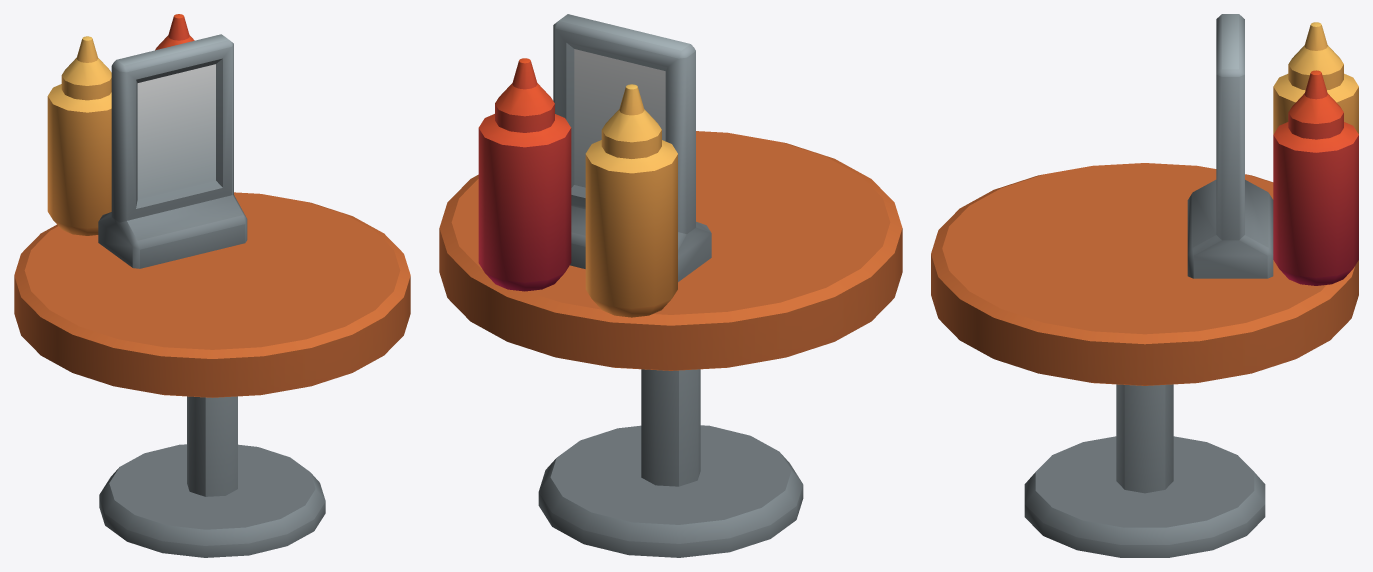
The model's file is Table Round A Small.glb.
3 views of the same model, side by side, from view 1: azimuth 30°, elevation 25°; view 2: azimuth 150°, elevation 25°; view 3: azimuth 270°, elevation 25° (orthographic). The views are drawn at different scales.
Parts seen in each view (by area): view 1: table_round_A_small_decorated; view 2: table_round_A_small_decorated; view 3: table_round_A_small_decorated.
Boxes of the visible parts, x1,y1,x2,y2 form: table_round_A_small_decorated: [14, 14, 410, 557]; table_round_A_small_decorated: [439, 14, 902, 557]; table_round_A_small_decorated: [931, 14, 1358, 557].
Bounding box in the file's own units: 1.5 × 1.8 × 1.5.
Materials: 1 (1 with a texture image).
